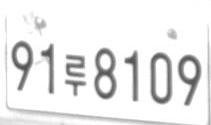0: (149, 51, 173, 104)
1: (121, 49, 146, 102), (38, 42, 61, 94)
8: (93, 46, 116, 100)
9: (177, 53, 202, 106), (10, 40, 34, 90)
루: (64, 53, 86, 96)
